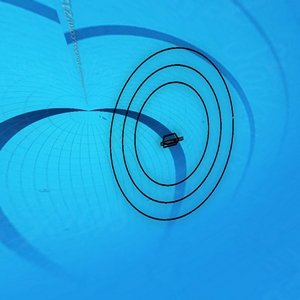circle: (105, 37, 238, 232)
submarine: (157, 131, 184, 151)
